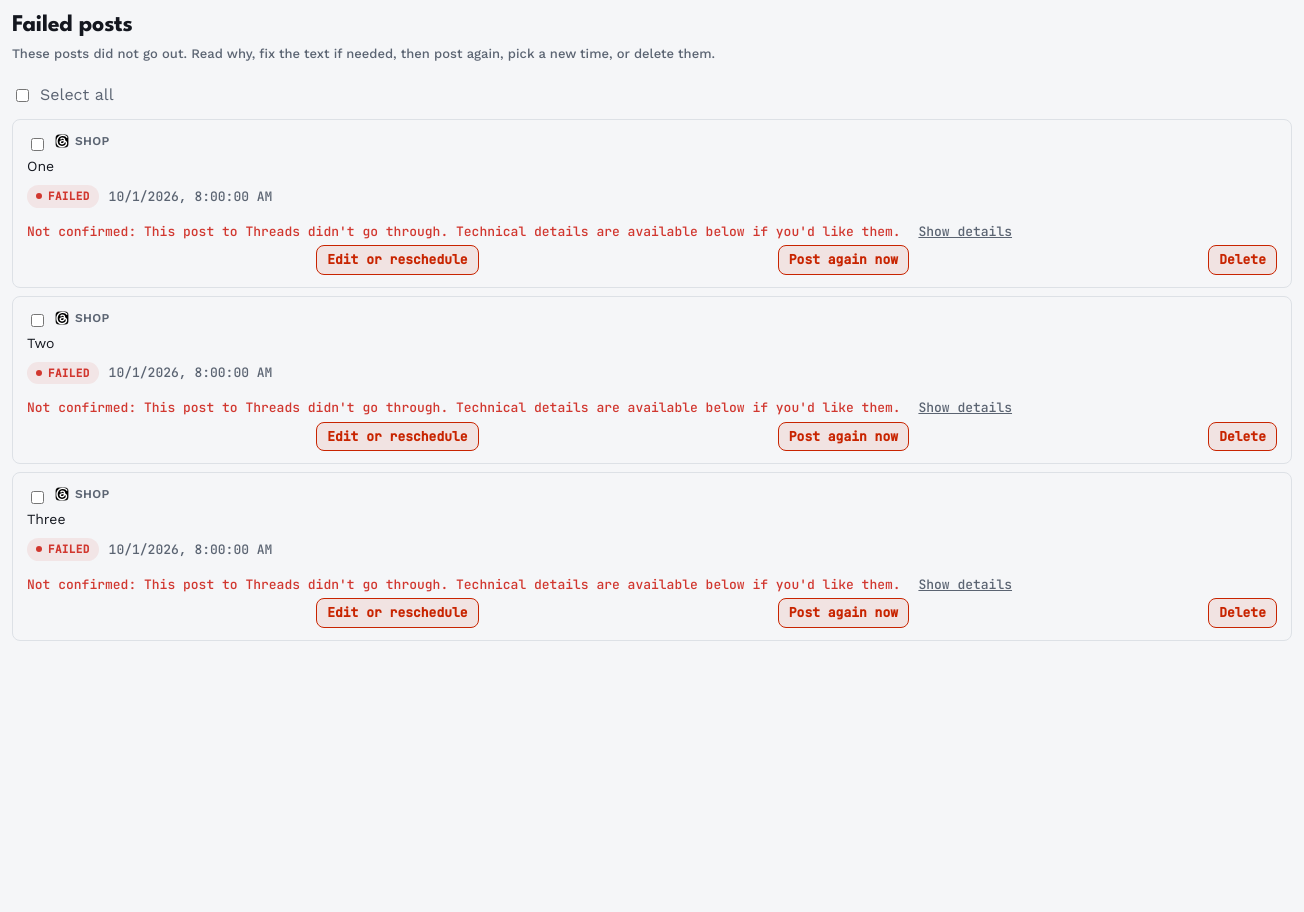
Test: FailedTab › bulk delete › select all ticks every post, and ticking again clears them
Expected: the text "One" is shown, [27,158,54,174]
Click the checkbox labelled "Select all" at (22, 95), box [16,89,29,102]
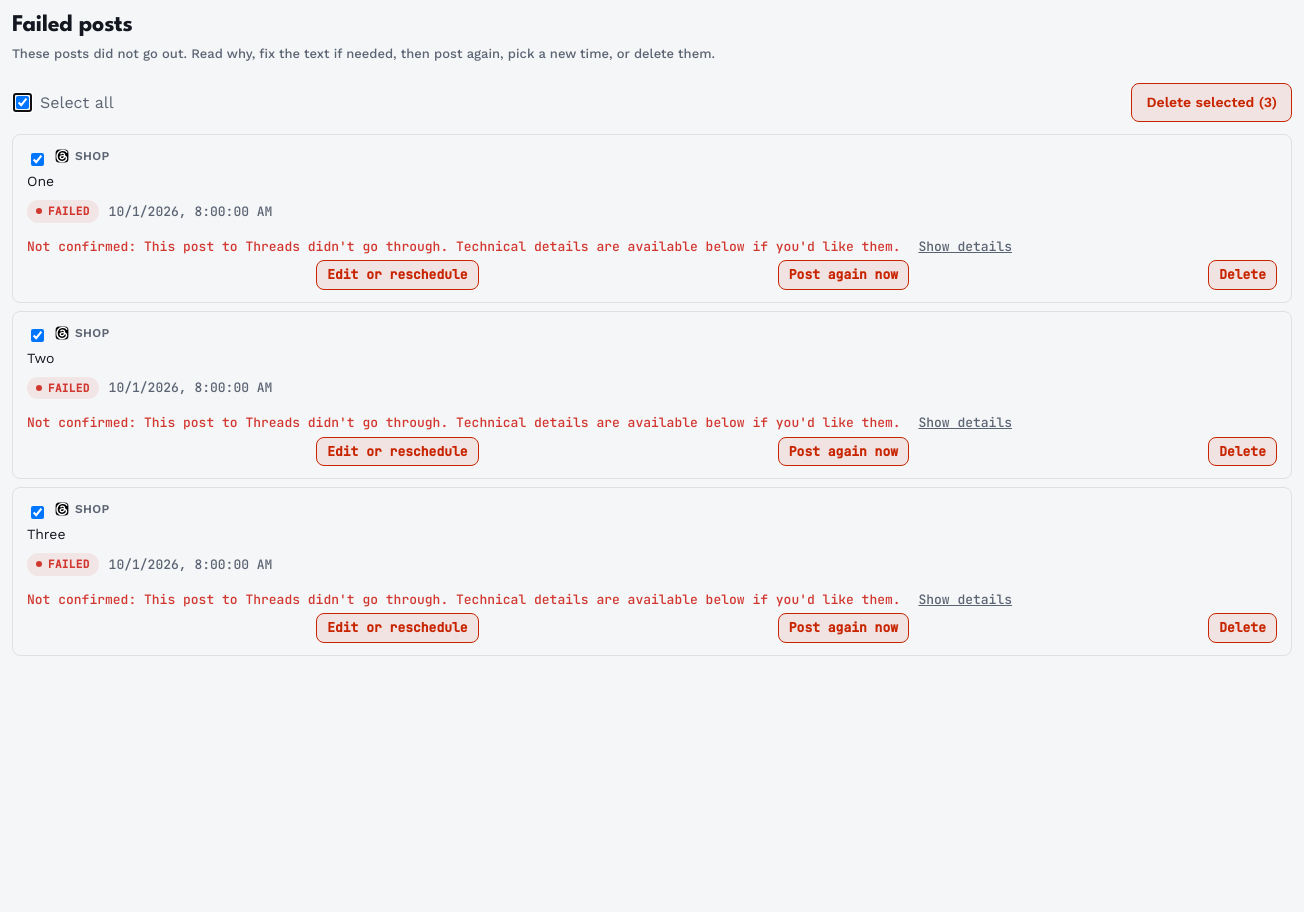
Expected: the button "Delete selected (3)" is shown, [1132,83,1292,122]
Click the checkbox labelled "Select all" at (22, 103), box [16,96,29,109]
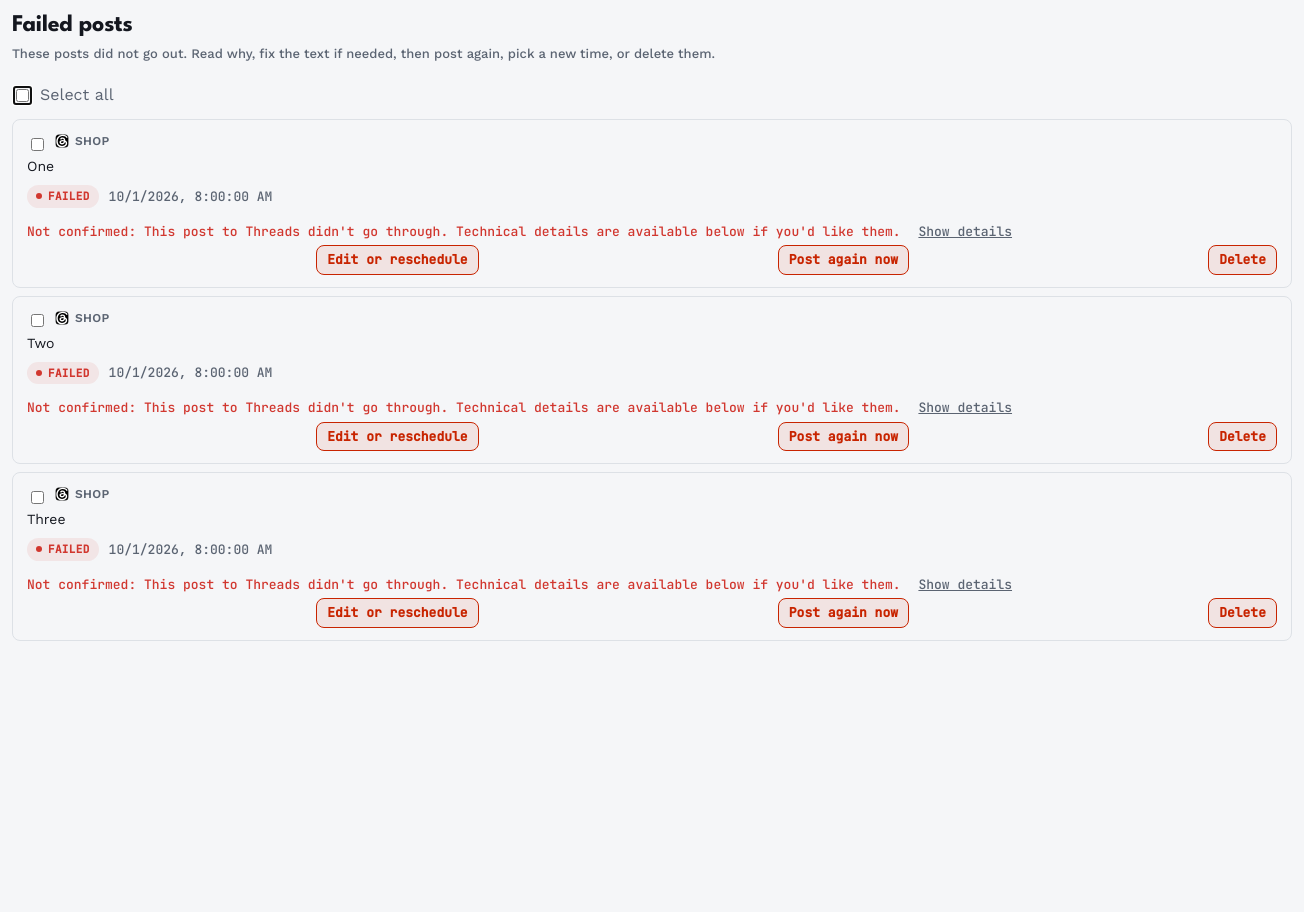
Expected: the button "Delete selected" is gone
